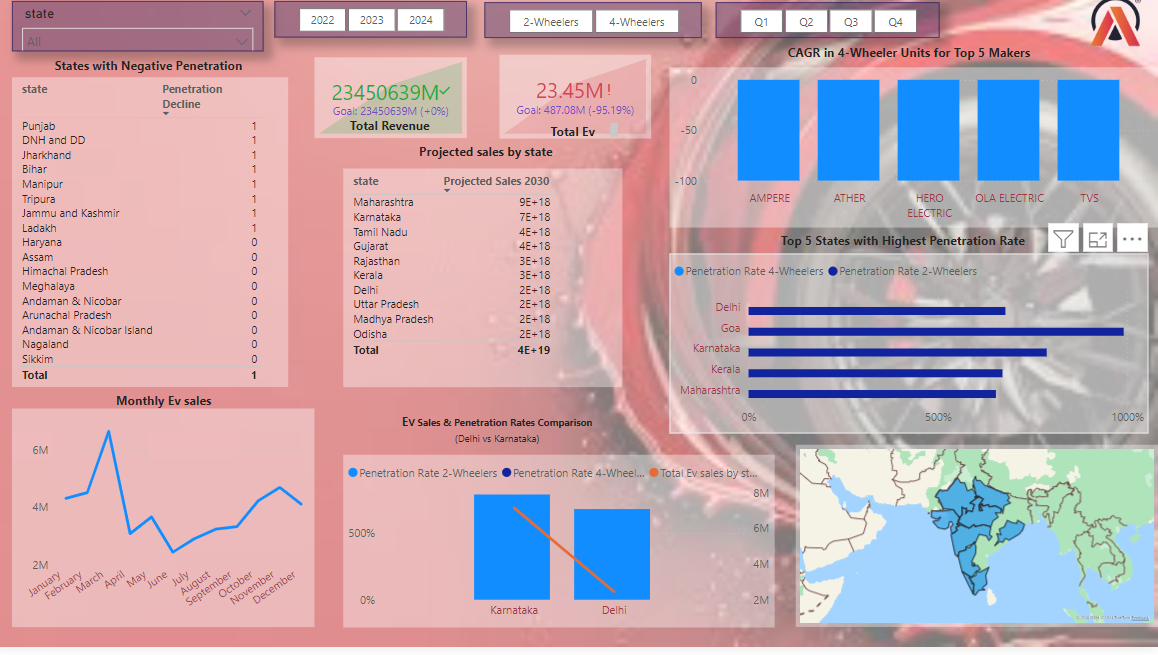

What the dashboard file says about the page in this screenshot:
{"tool":"powerbi","page":{"name":"Page 2","canvas":[1280,720],"ordinal":2},"visuals":[{"type":"slicer","fields":{"Values":["electric_vehicle_sales_by_state.vehicle_category"]},"box":[540.5,12.2,238.5,39.1],"z":0},{"type":"slicer","fields":{"Values":["dim_date.fiscal_year"]},"box":[310.6,11,211.6,40.4],"z":1000},{"type":"slicer","fields":{"Values":["dim_date.quarter"]},"box":[794.8,12.2,245.8,39.1],"z":2000},{"type":"clusteredBarChart","fields":{"Y":["Measure.Penetration Rate 4-Wheelers","Measure.Penetration Rate 2-Wheelers"],"Category":["electric_vehicle_sales_by_state.state"]},"box":[743.7,288.2,525.6,197.6],"z":3000},{"type":"tableEx","fields":{"Values":["electric_vehicle_sales_by_state.state","Measure.Penetration Decline"]},"box":[22,94.7,303.3,340.3],"z":4000},{"type":"lineStackedColumnComboChart","fields":{"Y":["Measure.Penetration Rate 2-Wheelers","Measure.Penetration Rate 4-Wheelers"],"Y2":["Measure.Total Ev sales by state"],"Category":["electric_vehicle_sales_by_state.state"]},"box":[385.6,509.1,473.4,189.4],"z":5000},{"type":"columnChart","fields":{"Category":["electric_vehicle_sales_by_makers.maker"],"Y":["Measure.CAGR 4-Wheelers"]},"box":[743.7,83.7,536.5,175.6],"z":6000},{"type":"lineChart","fields":{"Category":["dim_date.date.Variation.Date Hierarchy.Month"],"Y":["Measure.Monthly EV Sales"]},"box":[22,458.3,332.1,240.1],"z":7000},{"type":"tableEx","fields":{"Values":["electric_vehicle_sales_by_state.state","Measure.Projected Sales 2030"]},"box":[385.6,194.9,306,240.1],"z":8000},{"type":"kpi","fields":{"Indicator":["Measure.Total Revenue"],"TrendLine":["dim_date.fiscal_year"],"Goal":["Measure.Total Revenue FY 2024"]},"box":[354,72.7,167.4,89.2],"z":9000},{"type":"azureMap","fields":{"Category":["electric_vehicle_sales_by_state.state"]},"box":[882.3,498.1,397.9,200.3],"z":10000},{"type":"slicer","fields":{"Values":["electric_vehicle_sales_by_state.state"]},"box":[22,11,275.8,54.9],"z":11000},{"type":"kpi","fields":{"Indicator":["Measure.Total EV Sales"],"Goal":["Measure.Total Vehicle Sales"],"TrendLine":["dim_date.fiscal_year"]},"box":[557.1,70,166,91.9],"z":12000},{"type":"image","box":[1188.3,0,91.7,66],"z":13000},{"type":"textbox","box":[734.1,259.3,535.2,28.8],"z":14000},{"type":"textbox","box":[22,67.2,303.3,31.6],"z":15000},{"type":"textbox","box":[385.6,458.3,337.6,49.4],"z":16000},{"type":"textbox","box":[743.7,53.5,525.6,32.9],"z":17000},{"type":"textbox","box":[354,133.1,146.8,28.8],"z":17001},{"type":"textbox","box":[580.4,140,111.1,31.6],"z":17002},{"type":"textbox","box":[392.5,161.9,299.1,32.9],"z":17003},{"type":"textbox","box":[52.1,435,258,32.9],"z":17004}]}

Visuals, with their boxes in screenshot pixels (x1, y1, x2, y2), scaled from the page's 1280x720 canvas onto the 1158x655 screenshot:
slicer - electric_vehicle_sales_by_state.vehicle_category: box=[489, 11, 705, 47]
slicer - dim_date.fiscal_year: box=[281, 10, 472, 47]
slicer - dim_date.quarter: box=[719, 11, 941, 47]
clusteredBarChart - Measure.Penetration Rate 4-Wheelers x Measure.Penetration Rate 2-Wheelers: box=[673, 262, 1148, 442]
tableEx - electric_vehicle_sales_by_state.state x Measure.Penetration Decline: box=[20, 86, 294, 396]
lineStackedColumnComboChart - Measure.Penetration Rate 2-Wheelers x Measure.Penetration Rate 4-Wheelers: box=[349, 463, 777, 635]
columnChart - electric_vehicle_sales_by_makers.maker x Measure.CAGR 4-Wheelers: box=[673, 76, 1157, 236]
lineChart - dim_date.date.Variation.Date Hierarchy.Month x Measure.Monthly EV Sales: box=[20, 417, 320, 635]
tableEx - electric_vehicle_sales_by_state.state x Measure.Projected Sales 2030: box=[349, 177, 626, 396]
kpi - Measure.Total Revenue x dim_date.fiscal_year: box=[320, 66, 472, 147]
azureMap - electric_vehicle_sales_by_state.state: box=[798, 453, 1157, 635]
slicer - electric_vehicle_sales_by_state.state: box=[20, 10, 269, 60]
kpi - Measure.Total EV Sales x Measure.Total Vehicle Sales: box=[504, 64, 654, 147]
image: box=[1075, 0, 1157, 60]
textbox: box=[664, 236, 1148, 262]
textbox: box=[20, 61, 294, 90]
textbox: box=[349, 417, 654, 462]
textbox: box=[673, 49, 1148, 79]
textbox: box=[320, 121, 453, 147]
textbox: box=[525, 127, 626, 156]
textbox: box=[355, 147, 626, 177]
textbox: box=[47, 396, 281, 426]
